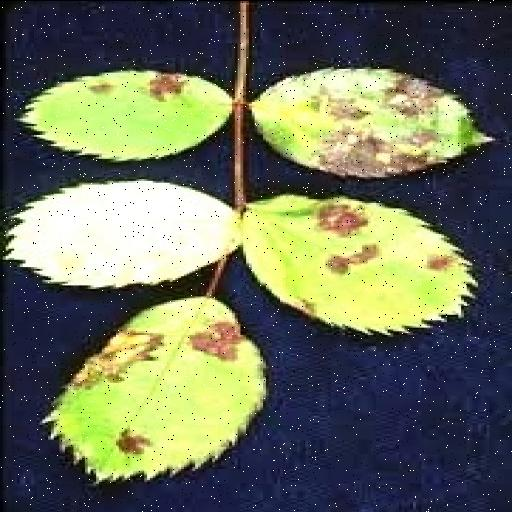downy_mildew: (46, 296, 265, 478), (241, 195, 475, 332), (252, 68, 489, 176), (9, 180, 240, 286), (20, 70, 231, 159)
